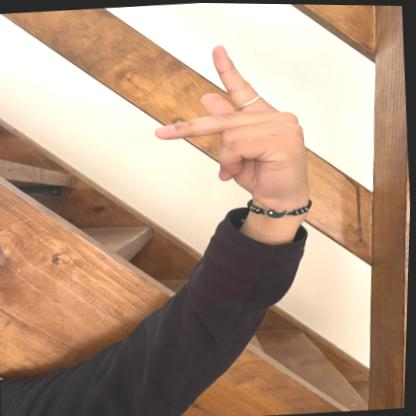K: (137, 32, 321, 225)
